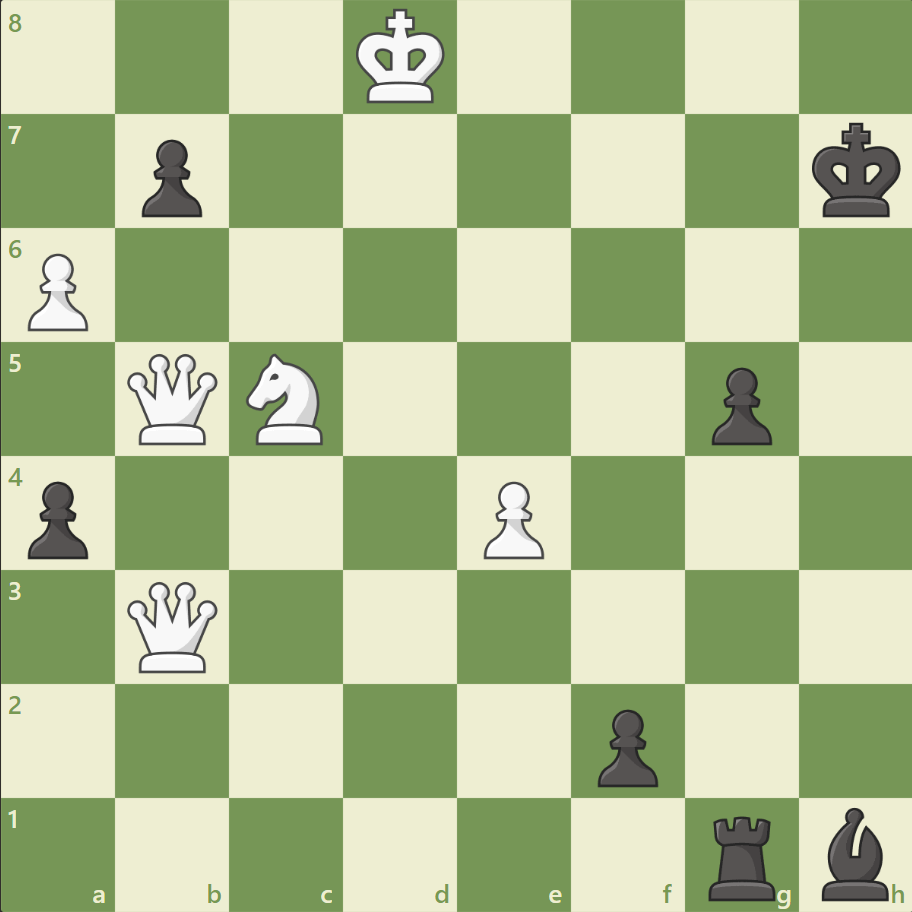K: (351, 4, 451, 112)
N: (238, 348, 335, 450)
P: (20, 246, 95, 337), (474, 473, 549, 564)
Q: (124, 349, 223, 449), (124, 576, 223, 676)
b: (812, 801, 896, 904)
k: (806, 117, 906, 225)
p: (133, 132, 208, 223), (701, 359, 776, 450), (20, 473, 95, 564), (588, 700, 662, 791)
r: (700, 806, 783, 904)
